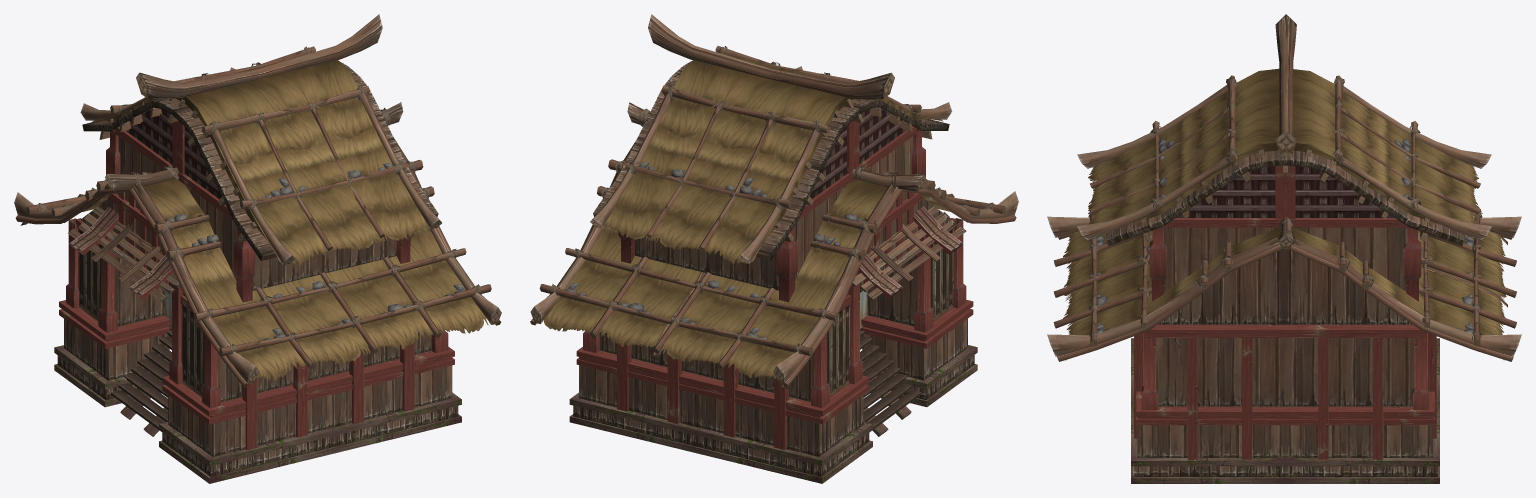
File: room001.FBX
3 views of the same model, side by side, from view 1: azimuth 30°, elevation 25°; view 2: azimuth 150°, elevation 25°; view 3: azimuth 270°, elevation 25° (orthographic).
Parts seen in each view (by area): view 1: Object007; view 2: Object007; view 3: Object007.
Part boxes in pixels (<box>): Object007: <box>14,14,501,483</box>; Object007: <box>530,14,1018,483</box>; Object007: <box>1047,14,1521,483</box>.
Size of the model in its own units: 7.9 by 8.95 by 10.97.
